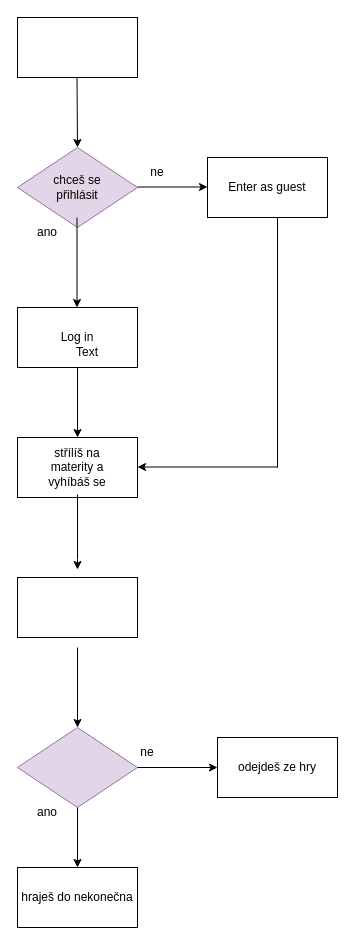
Some shapes in this 355 by 945 pixel diagram are drawn without their labels. Here are the shapes that lost their labels. From the top down, the centre of each, then its label:
At point (77, 47): "Start".
At point (77, 607): "dostáváš score a vylepšuješ se".
At point (77, 767): "pokračovat?".
